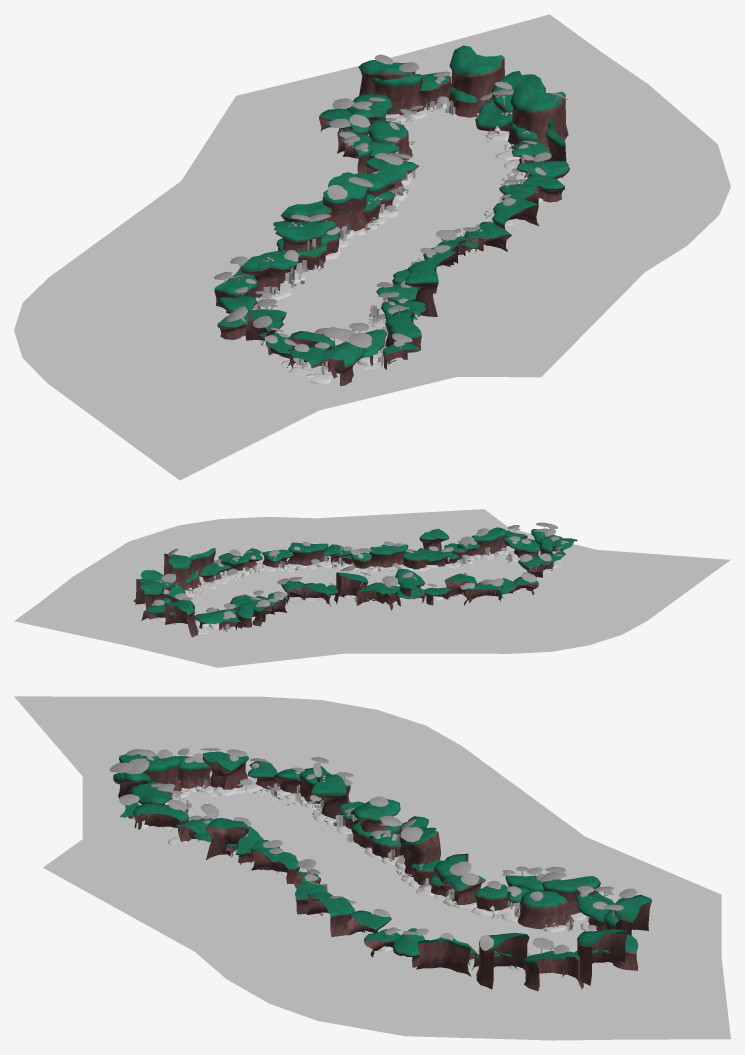
The model's file is dungeobs03_ytzh.FBX.
3 renders of one model, top to bottom at view 1: azimuth 30°, elevation 25°; view 2: azimuth 150°, elevation 25°; view 3: azimuth 270°, elevation 25°, orthographic. The views are drawn at different scales.
Visible parts, largest first — view 1: GQ03_YTZH_terrain, GQ03_YTZH_Rock02, GQ03_YTZH_Glass01, GQ03_YTZH_Rock01, GQ03_YTZH_plant_terrain, GQ03_YTZH_plant; view 2: GQ03_YTZH_terrain, GQ03_YTZH_Rock02, GQ03_YTZH_Glass01, GQ03_YTZH_Rock01, GQ03_YTZH_plant, GQ03_YTZH_plant_terrain; view 3: GQ03_YTZH_terrain, GQ03_YTZH_Rock02, GQ03_YTZH_Glass01, GQ03_YTZH_Rock01, GQ03_YTZH_plant_terrain, GQ03_YTZH_plant.
Part boxes in pixels (x1,y1,x2,y2): GQ03_YTZH_terrain: (14, 14, 730, 480); GQ03_YTZH_Rock02: (214, 45, 569, 386); GQ03_YTZH_Glass01: (214, 54, 567, 367); GQ03_YTZH_Rock01: (241, 103, 543, 384); GQ03_YTZH_plant_terrain: (241, 108, 538, 393); GQ03_YTZH_plant: (253, 100, 526, 366); GQ03_YTZH_terrain: (14, 509, 730, 667); GQ03_YTZH_Rock02: (133, 527, 577, 637); GQ03_YTZH_Glass01: (151, 522, 569, 620); GQ03_YTZH_Rock01: (156, 545, 563, 634); GQ03_YTZH_plant: (192, 547, 526, 631); GQ03_YTZH_plant_terrain: (179, 551, 558, 624); GQ03_YTZH_terrain: (14, 696, 730, 1040); GQ03_YTZH_Rock02: (113, 751, 651, 991); GQ03_YTZH_Glass01: (109, 748, 637, 954); GQ03_YTZH_Rock01: (132, 782, 633, 970); GQ03_YTZH_plant_terrain: (97, 791, 546, 962); GQ03_YTZH_plant: (177, 779, 587, 956).
Size of the model in its own units: 11816 by 999 by 10407.
